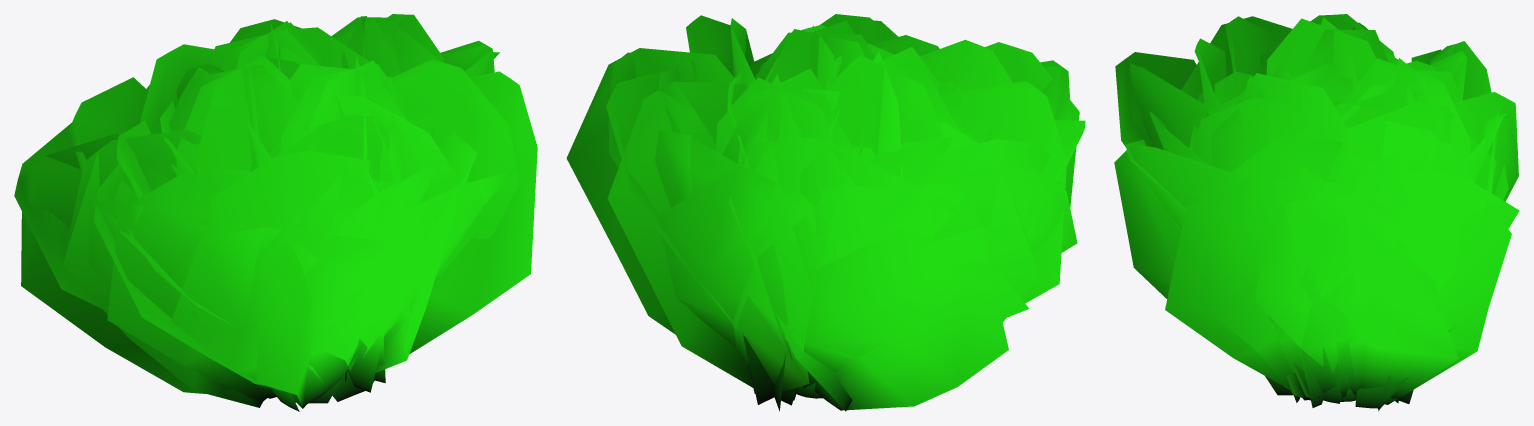
File: M_Bush_01.fbx
3 renders of one model, left to right at view 1: azimuth 30°, elevation 25°; view 2: azimuth 150°, elevation 25°; view 3: azimuth 270°, elevation 25°, orthographic. The views are drawn at different scales.
Visible parts, largest first — view 1: M_Bush_01; view 2: M_Bush_01; view 3: M_Bush_01.
Boxes of the visible parts, <box> form: M_Bush_01: <box>14,14,537,411</box>; M_Bush_01: <box>566,14,1085,411</box>; M_Bush_01: <box>1114,14,1519,411</box>.
Bounding box in the file's own units: 270 × 206 × 219.
